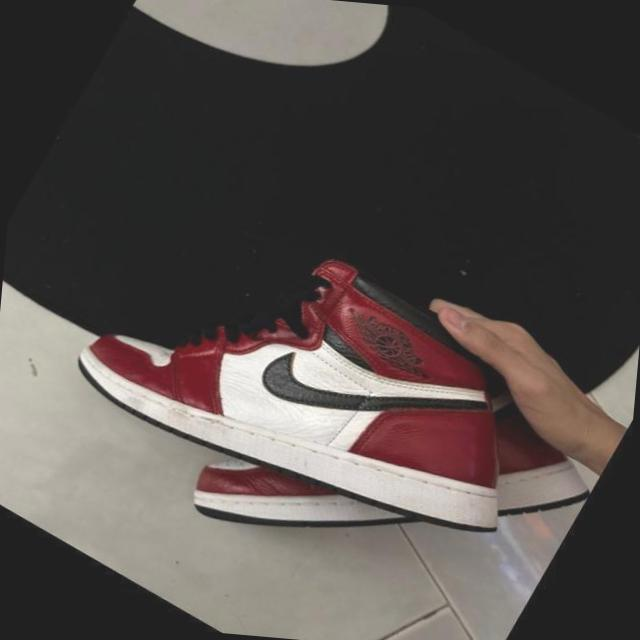nike_original_jordan: (35, 149, 602, 616)
